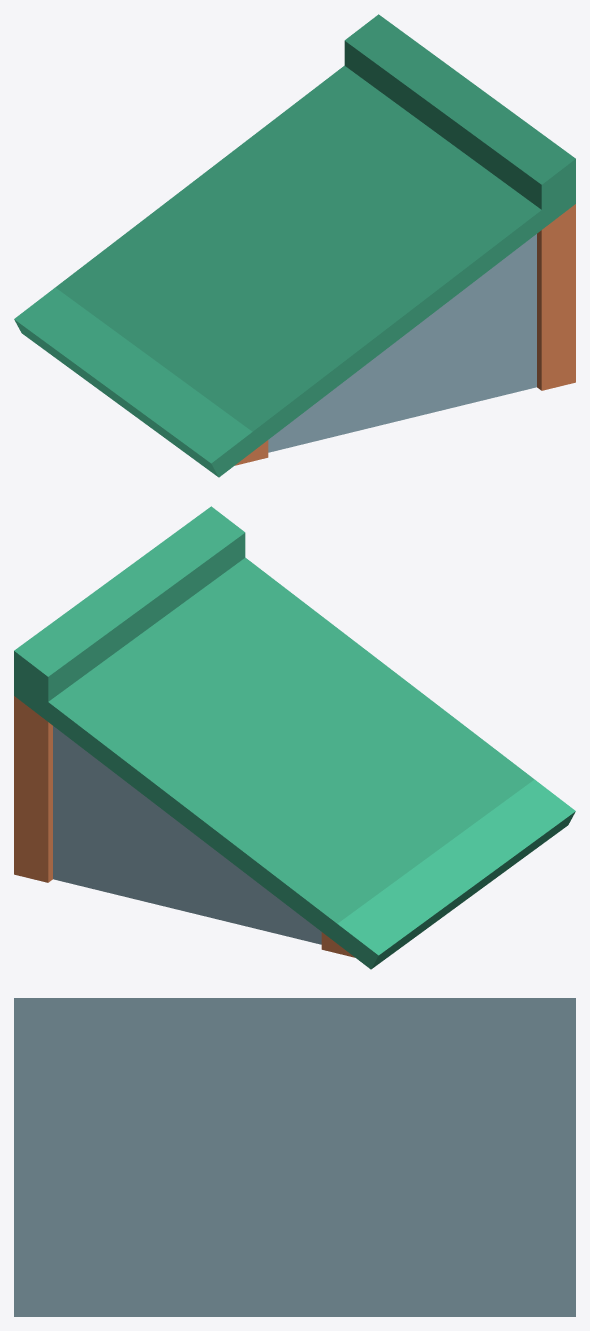
The model's file is roof.fbx.
The picture shows the model from 3 angles, top to bottom: view 1: azimuth 30°, elevation 25°; view 2: azimuth 150°, elevation 25°; view 3: azimuth 270°, elevation 25°; orthographic projection. The views are drawn at different scales.
Visible parts, largest first — view 1: roof; view 2: roof; view 3: roof.
Part boxes in pixels (box(x1,y1,x2,y2)): roof: box(14, 14, 575, 477); roof: box(14, 506, 575, 969); roof: box(14, 998, 575, 1316).
Bounding box in the file's own units: 10.67 × 6.48 × 10.
